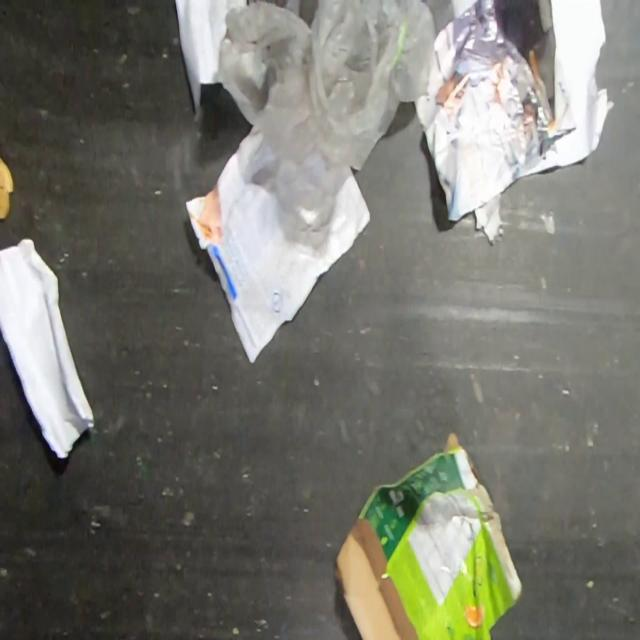cardboard: (334, 430, 524, 640)
soft_plastic: (212, 0, 438, 174)
